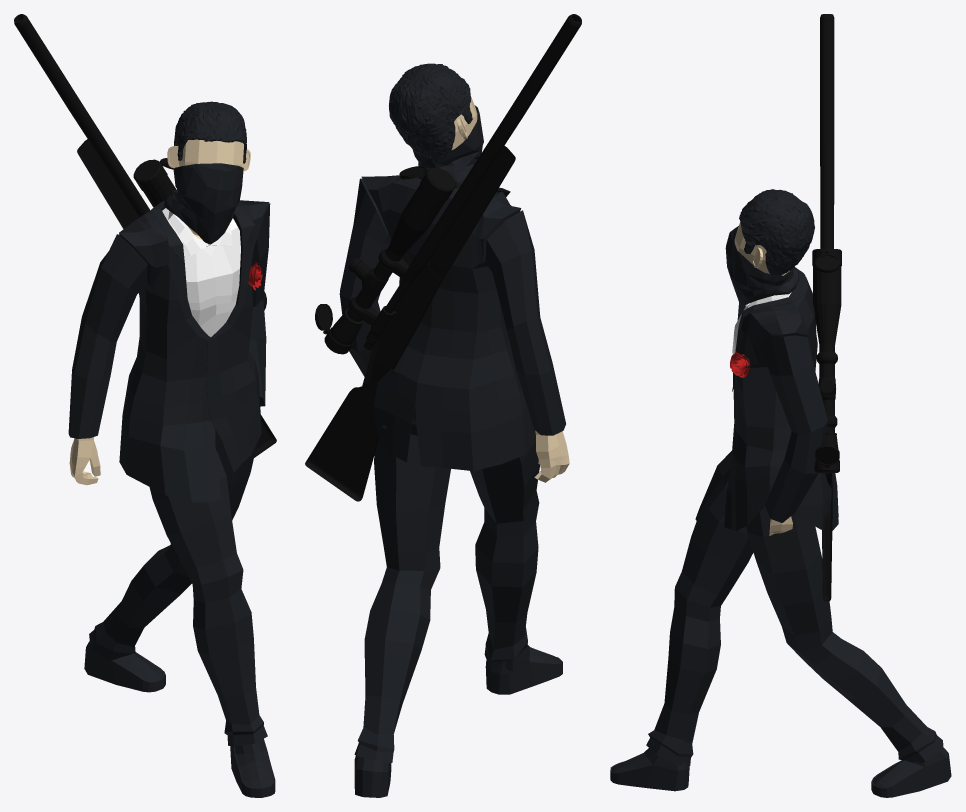
The picture shows the model from 3 angles, left to right: view 1: azimuth 30°, elevation 25°; view 2: azimuth 150°, elevation 25°; view 3: azimuth 270°, elevation 25°; orthographic projection. The views are drawn at different scales.
Parts seen in each view (by area): view 1: suit_Cube.014, Cube.012_Cube.016, head_hand_foot_Cube.013, Plane.002, shirt_Cube.015, mask_Cube.018, hair_Cube.019; view 2: suit_Cube.014, Cube.012_Cube.016, Plane.002, hair_Cube.019, head_hand_foot_Cube.013, mask_Cube.018; view 3: Cube.012_Cube.016, suit_Cube.014, Plane.002, head_hand_foot_Cube.013, hair_Cube.019, mask_Cube.018.
Part boxes in pixels (x1,y1,x2,y2): suit_Cube.014: [68, 200, 270, 502]; Cube.012_Cube.016: [89, 429, 267, 746]; head_hand_foot_Cube.013: [69, 139, 275, 797]; Plane.002: [14, 14, 276, 457]; shirt_Cube.015: [162, 208, 240, 336]; mask_Cube.018: [164, 163, 243, 244]; hair_Cube.019: [174, 101, 246, 163]; suit_Cube.014: [339, 175, 565, 470]; Cube.012_Cube.016: [354, 407, 539, 762]; Plane.002: [305, 14, 581, 501]; hair_Cube.019: [389, 63, 472, 157]; head_hand_foot_Cube.013: [354, 97, 569, 797]; mask_Cube.018: [412, 105, 483, 188]; Cube.012_Cube.016: [646, 480, 943, 765]; suit_Cube.014: [695, 268, 838, 530]; Plane.002: [812, 14, 841, 601]; head_hand_foot_Cube.013: [610, 222, 951, 797]; hair_Cube.019: [739, 189, 814, 275]; mask_Cube.018: [725, 226, 799, 304].
Size of the model in its own units: 0.7335 by 1.97 by 0.863.
